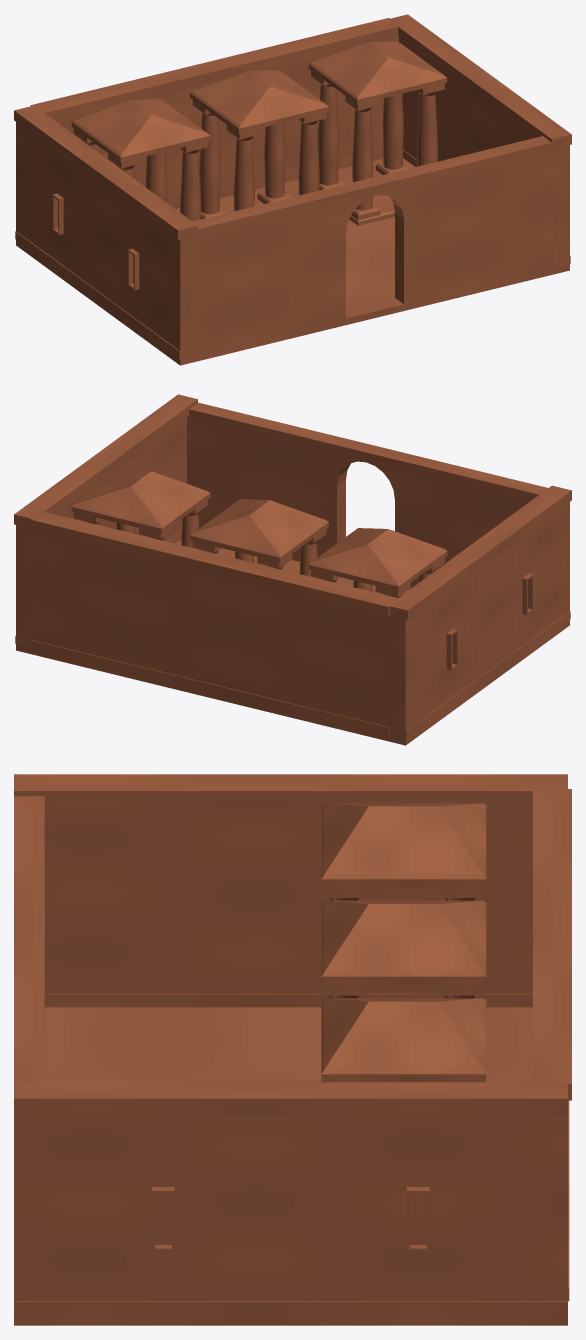
File: delhi.glb
3 renders of one model, top to bottom at view 1: azimuth 30°, elevation 25°; view 2: azimuth 150°, elevation 25°; view 3: azimuth 270°, elevation 25°, orthographic. The views are drawn at different scales.
Visible parts, largest first — view 1: delhi; view 2: delhi; view 3: delhi.
Part boxes in pixels (box(x1,y1,x2,y2)): delhi: box(14, 14, 571, 365); delhi: box(14, 394, 571, 745); delhi: box(14, 774, 571, 1325).
Bounding box in the file's own units: 7.58 × 2.81 × 5.44.
Materials: 1 (1 with a texture image).
